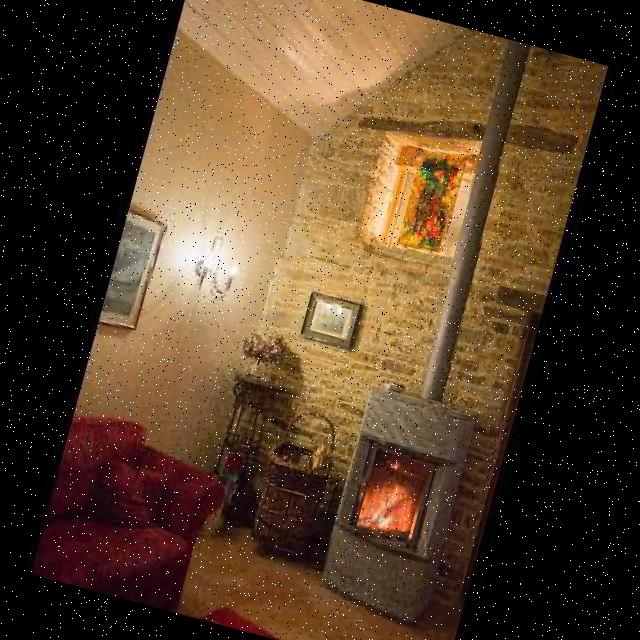fire: (354, 467, 423, 548)
